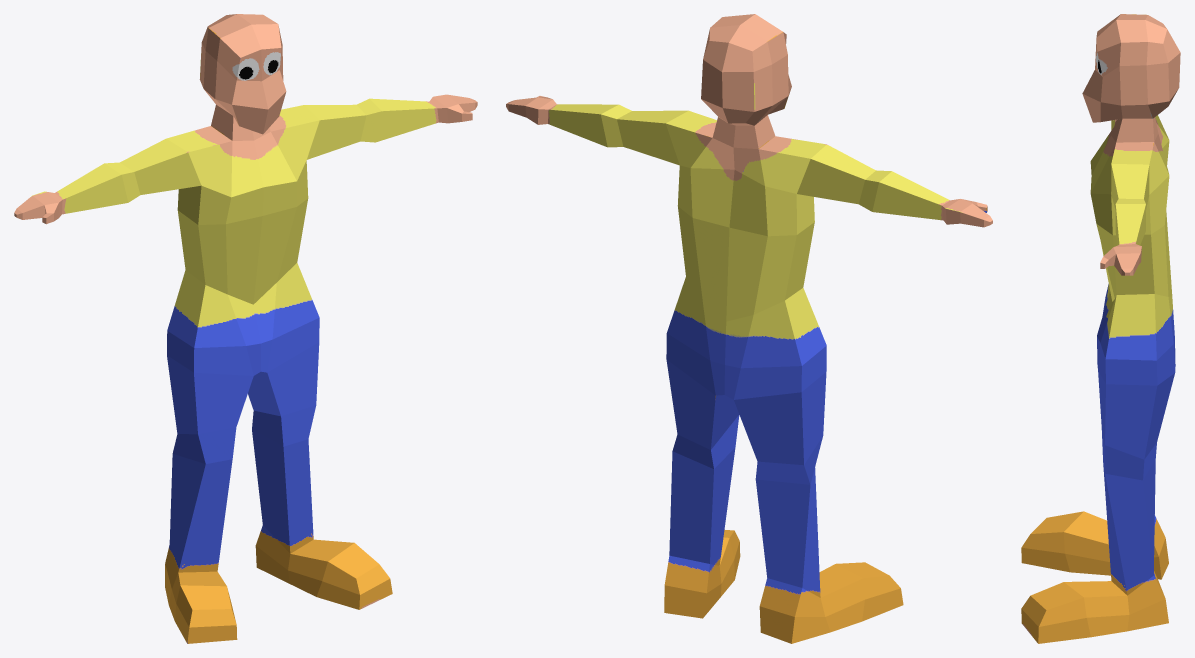
The model's file is Male.fbx.
3 views of the same model, side by side, from view 1: azimuth 30°, elevation 25°; view 2: azimuth 150°, elevation 25°; view 3: azimuth 270°, elevation 25° (orthographic). The views are drawn at different scales.
Parts seen in each view (by area): view 1: HumanMaleBald; view 2: HumanMaleBald; view 3: HumanMaleBald.
Boxes of the visible parts, x1,y1,x2,y2 form: HumanMaleBald: (14, 14, 477, 643); HumanMaleBald: (506, 14, 992, 643); HumanMaleBald: (1021, 14, 1180, 643).
Bounding box in the file's own units: 1314 × 1542 × 388.
Materials: 1 (1 with a texture image).
